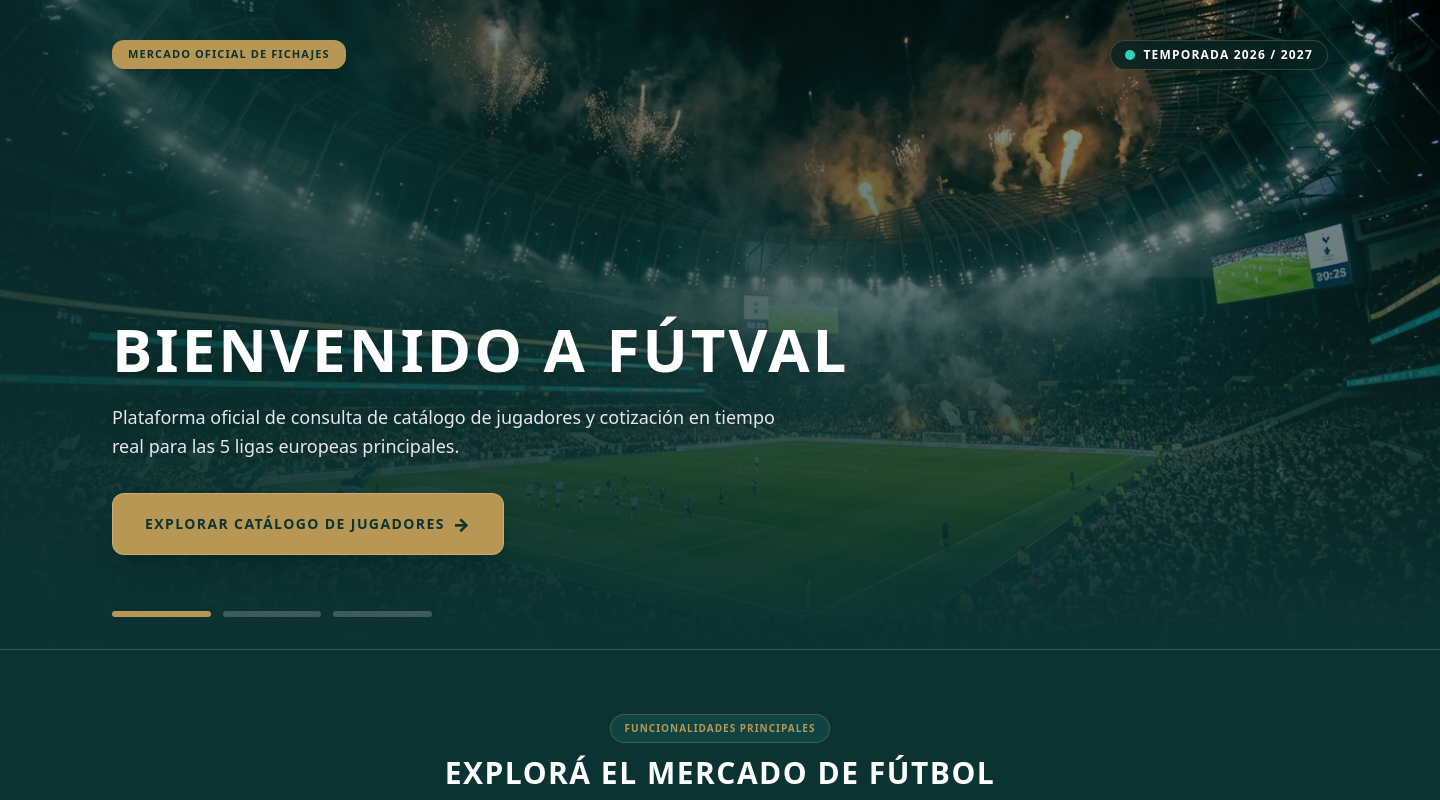
Test case: HomePage › cambia de slide al hacer clic en un indicador
Click the button named "ver slide 2": (272, 614) [223,603,321,625]
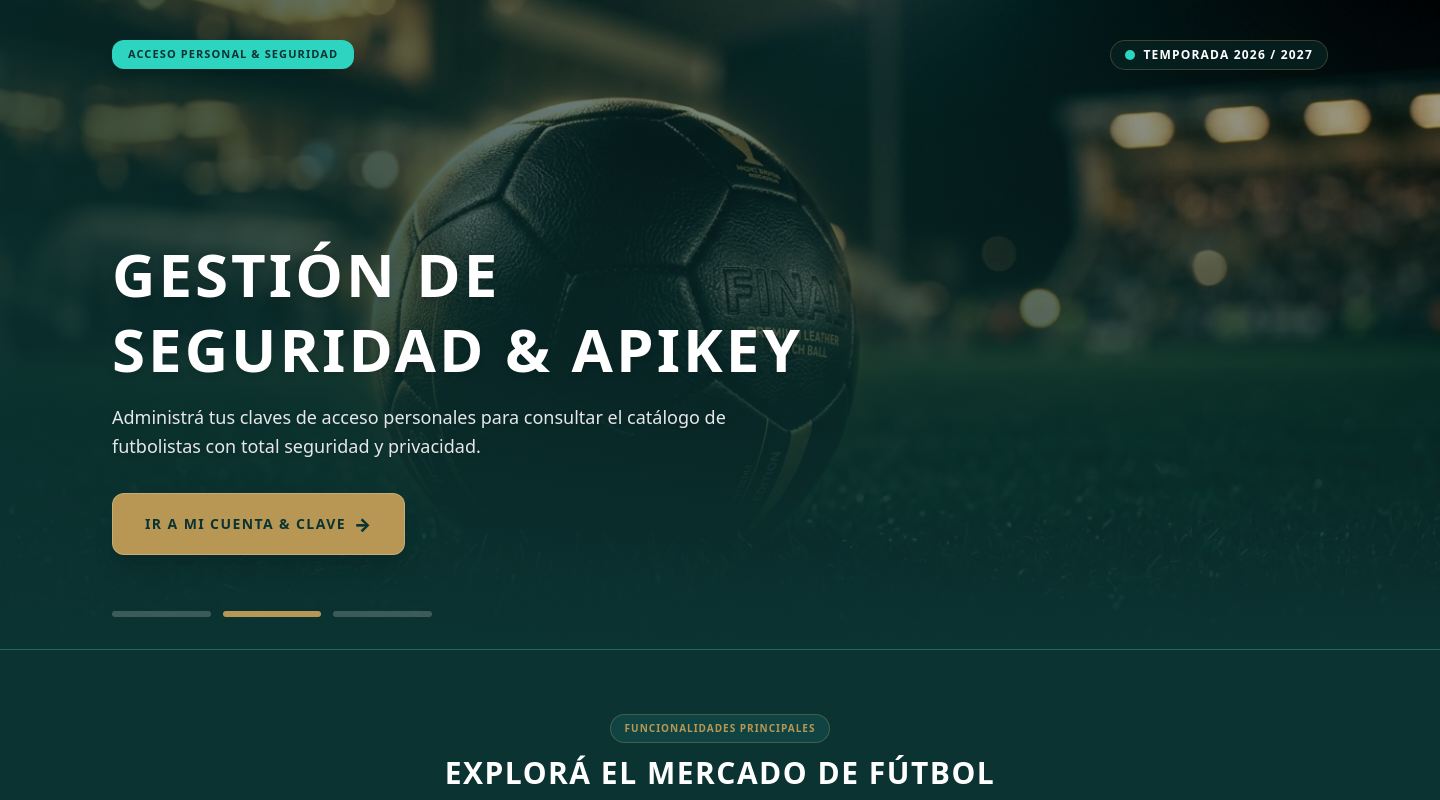
expect the heading "GESTIÓN DE SEGURIDAD & APIKEY" is shown: met, box [112,232,803,390]
